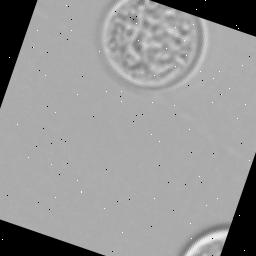picoshell: (100, 0, 209, 89), (181, 223, 231, 256)
